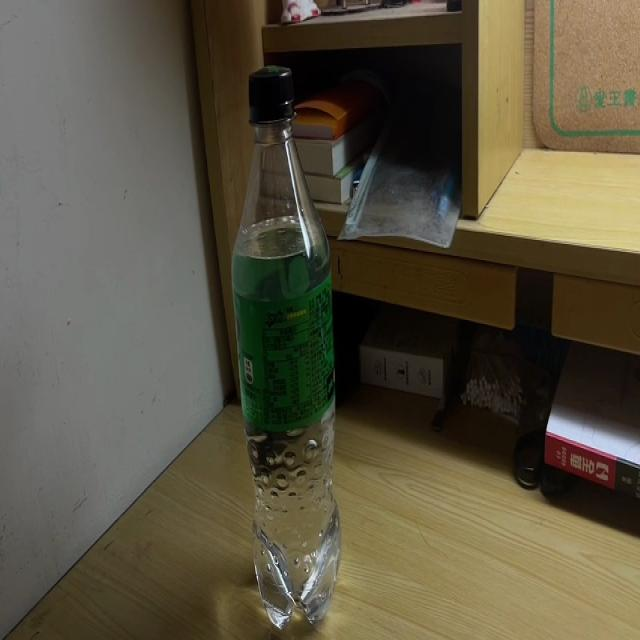Sprite: (232, 63, 341, 624)
